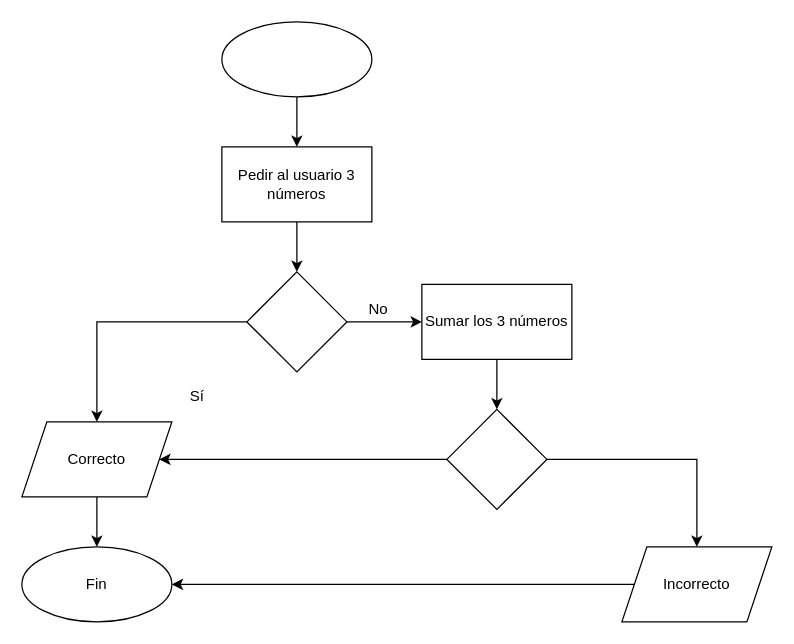
This 794x644 diagram has some shape labels left out. The centre of each missing label's shape, as x and y in pixels:
"Inicio" belongs at pixel 296 59.
"¿Algún número es 30?" belongs at pixel 296 321.
"¿La suma es 30?" belongs at pixel 496 458.
